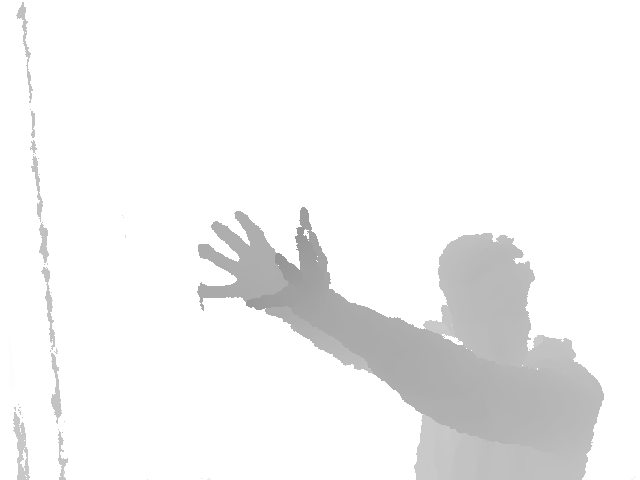hand: (196, 210, 300, 312), (247, 207, 334, 323)
head: (437, 232, 535, 358)
person: (197, 207, 605, 480)
